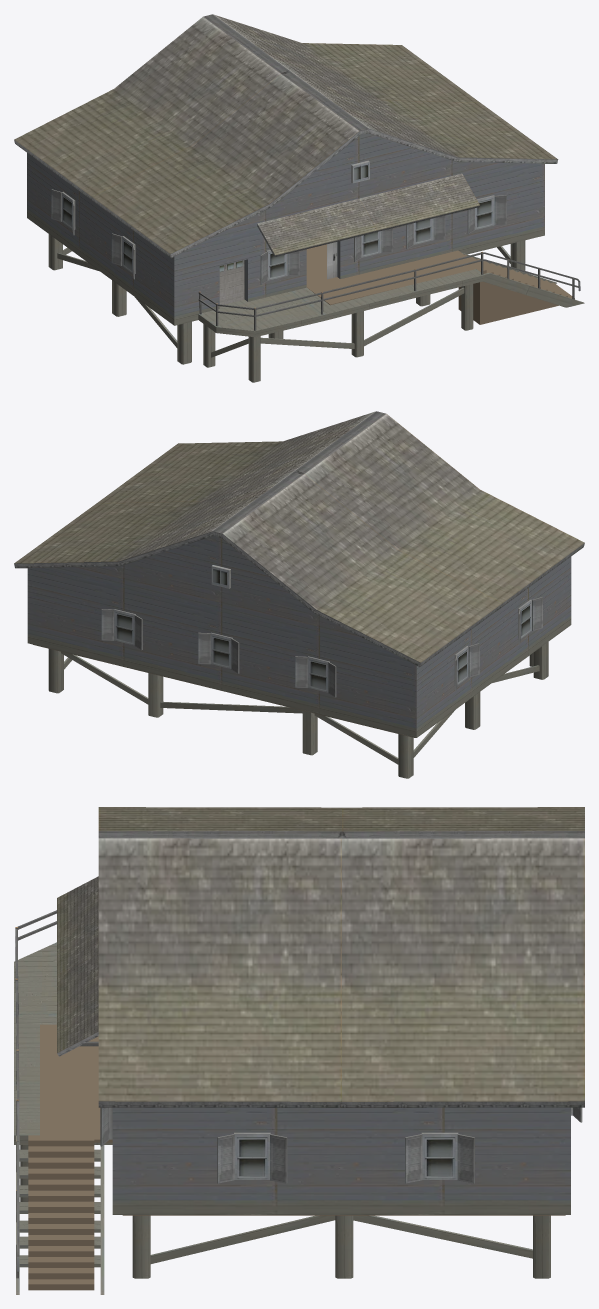
The model's file is rural-wood-1.access-v1.lod0.glb.
3 renders of one model, top to bottom at view 1: azimuth 30°, elevation 25°; view 2: azimuth 150°, elevation 25°; view 3: azimuth 270°, elevation 25°, orthographic. The views are drawn at different scales.
Visible parts, largest first — view 1: Rural_WoodenBuilding_1_Rural_Housetrim_1_0, Rural_WoodenBuilding_1_Rural_Walltrim_1_0, Walkable floors and stairs; view 2: Rural_WoodenBuilding_1_Rural_Housetrim_1_0, Rural_WoodenBuilding_1_Rural_Walltrim_1_0; view 3: Rural_WoodenBuilding_1_Rural_Housetrim_1_0, Rural_WoodenBuilding_1_Rural_Walltrim_1_0, Walkable floors and stairs.
Part boxes in pixels (x1,y1,x2,y2): Rural_WoodenBuilding_1_Rural_Housetrim_1_0: (14,14,580,330); Rural_WoodenBuilding_1_Rural_Walltrim_1_0: (27,133,584,382); Walkable floors and stairs: (306,244,574,324); Rural_WoodenBuilding_1_Rural_Housetrim_1_0: (14,411,584,697); Rural_WoodenBuilding_1_Rural_Walltrim_1_0: (27,536,571,778); Rural_WoodenBuilding_1_Rural_Housetrim_1_0: (15,807,584,1278); Rural_WoodenBuilding_1_Rural_Walltrim_1_0: (14,942,570,1294); Walkable floors and stairs: (28,1024,565,1290).
Bounding box in the file's own units: 21.07 × 10.44 × 17.27.
3 materials, 2 textured.
